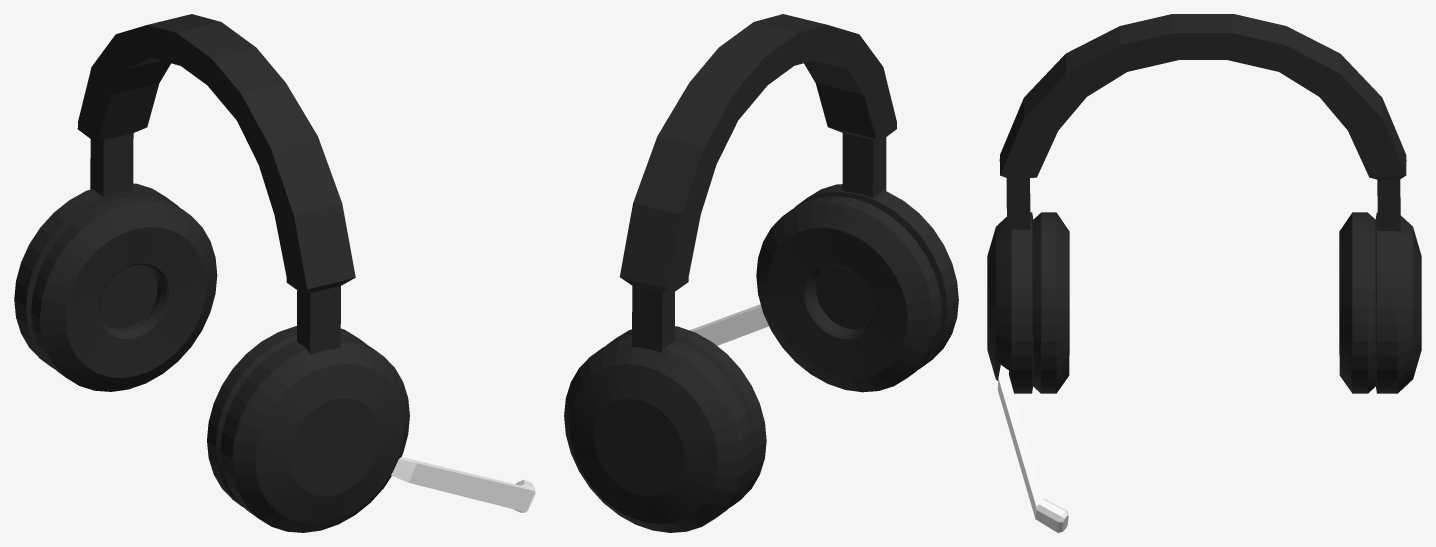
Rendered from HeadsetGB.glb.
The picture shows the model from 3 angles, left to right: view 1: azimuth 30°, elevation 25°; view 2: azimuth 150°, elevation 25°; view 3: azimuth 270°, elevation 25°; orthographic projection. The views are drawn at different scales.
Parts seen in each view (by area): view 1: Cylinder, Cube; view 2: Cylinder, Cube; view 3: Cylinder, Cube.
Boxes of the visible parts, x1,y1,x2,y2 form: Cylinder: (14, 14, 409, 532); Cube: (391, 457, 535, 512); Cylinder: (564, 14, 958, 532); Cube: (689, 304, 768, 345); Cylinder: (987, 14, 1421, 393); Cube: (997, 365, 1068, 532).
Size of the model in its own units: 3.71 by 5.01 by 4.78.
Materials: 2 (1 with a texture image).
